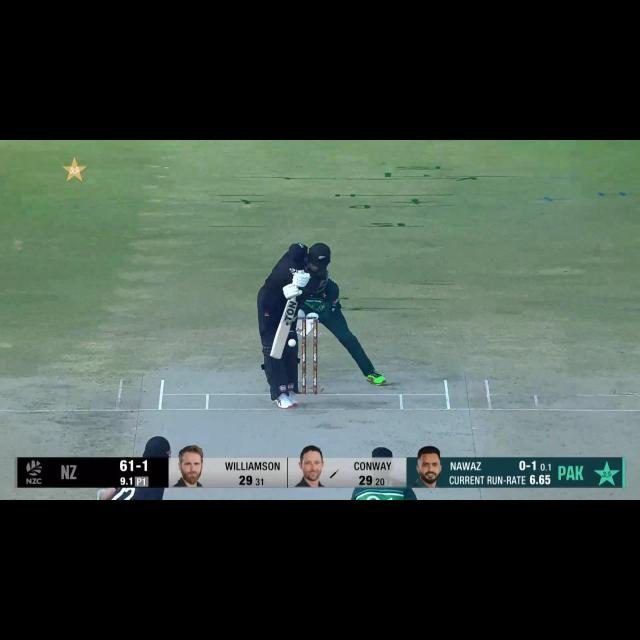bat: (268, 296, 300, 369)
toe: (268, 342, 287, 363)
